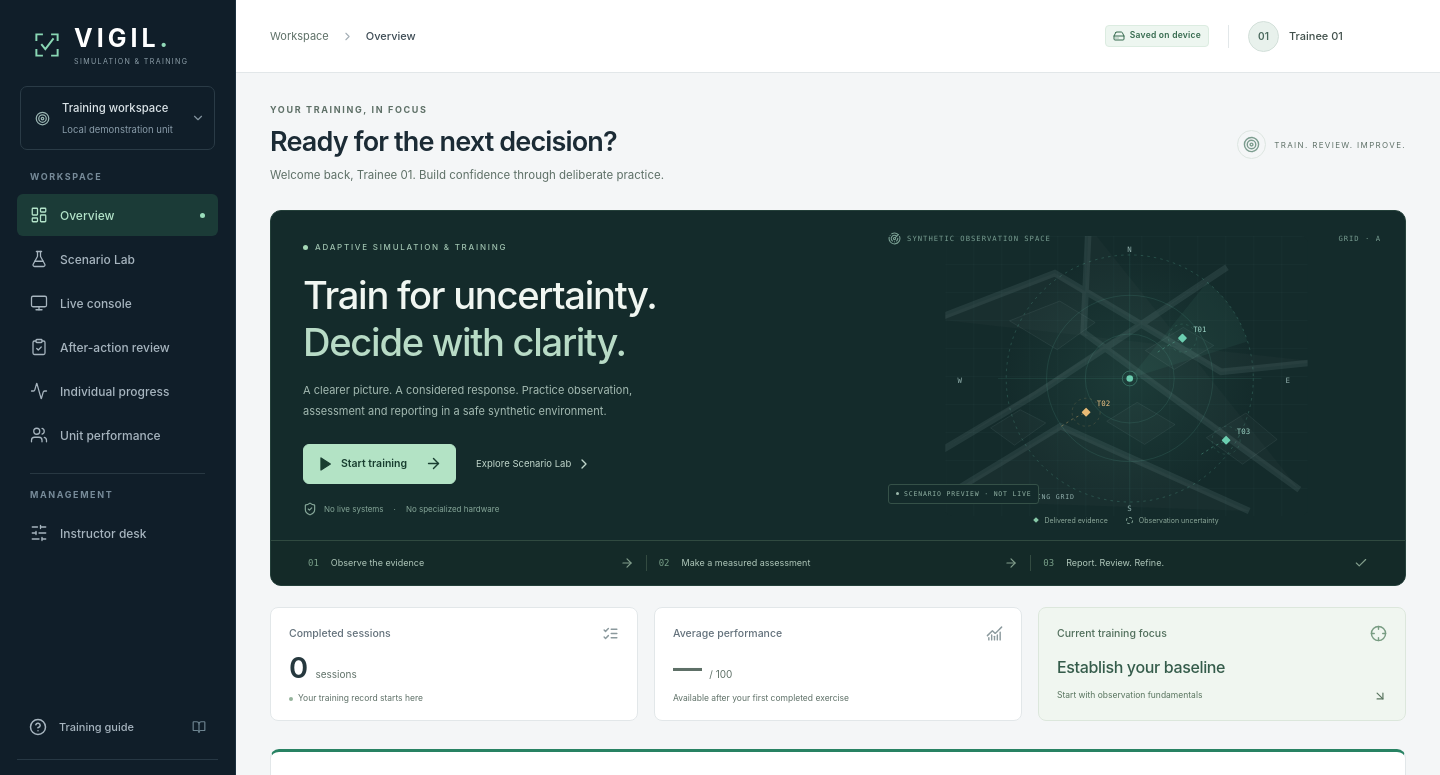
Test: Phase 1 navigation and foundation › starts training by opening configuration, without inventing an exercise result
Click the button "Start training" at coordinates (380, 464), box top-left (303, 444), bottom-right (456, 484)
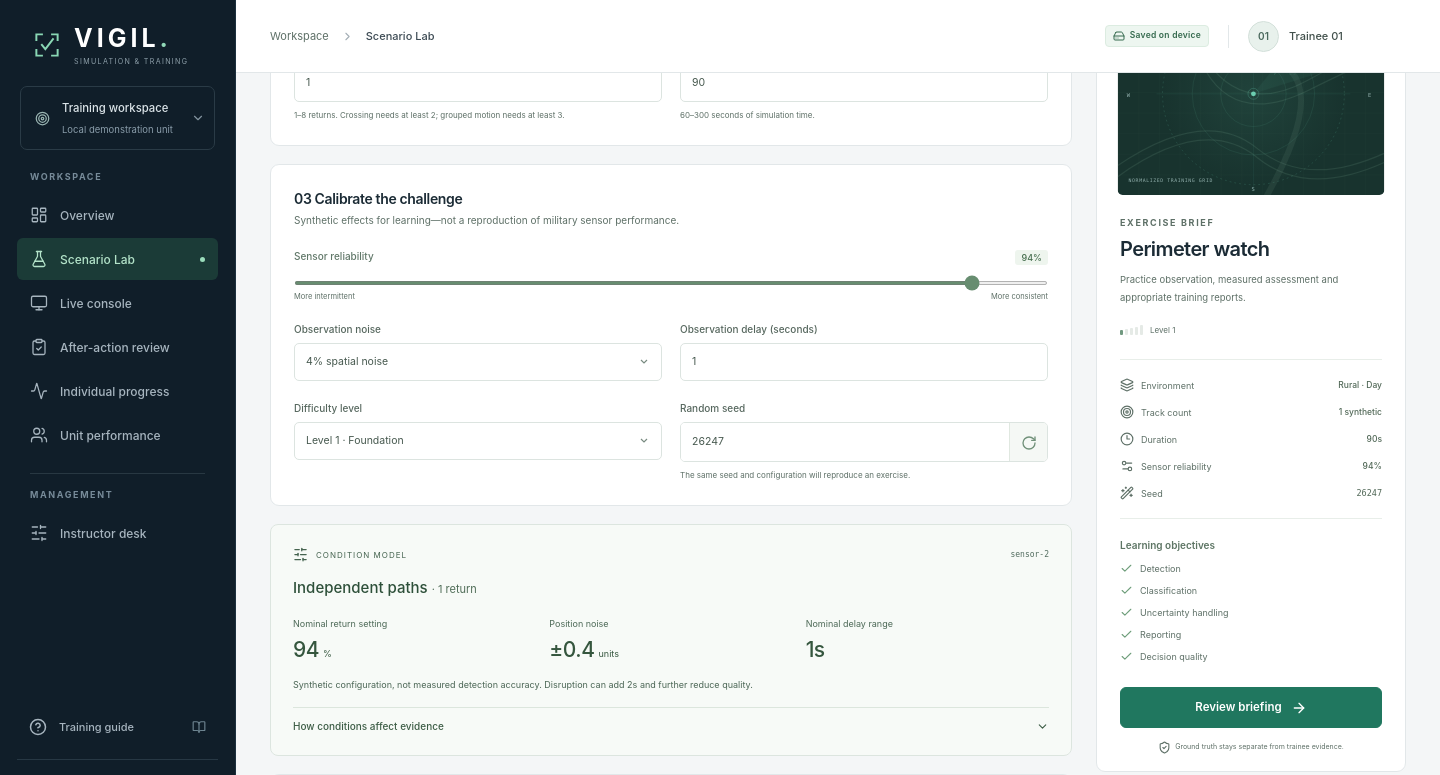
expect the number field labelled "Random seed" holds "26247": met, box top-left (681, 423), bottom-right (1009, 461)
